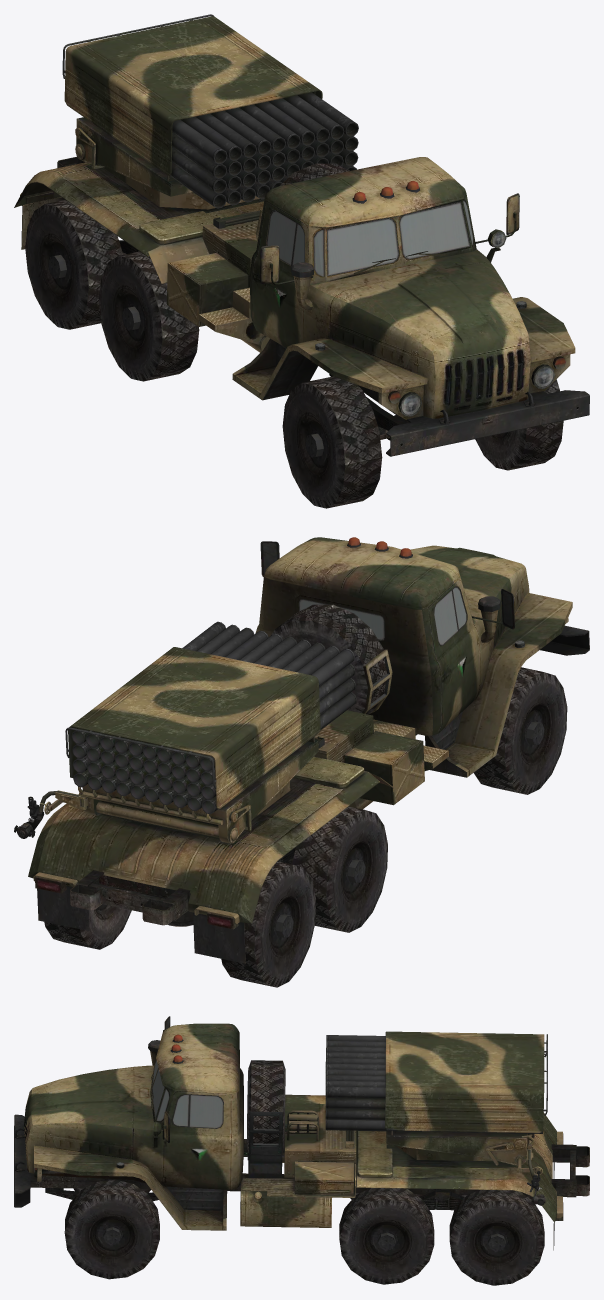
The model's file is bm-21-grad.glb.
The picture shows the model from 3 angles, top to bottom: view 1: azimuth 30°, elevation 25°; view 2: azimuth 150°, elevation 25°; view 3: azimuth 270°, elevation 25°; orthographic projection. The views are drawn at different scales.
Visible parts, largest first — view 1: Object02_Material #4591_0, Object01_Material #4590_0, Object07_Material #4961_0; view 2: Object02_Material #4591_0, Object01_Material #4590_0, Object07_Material #4961_0; view 3: Object02_Material #4591_0, Object01_Material #4590_0, Object07_Material #4961_0.
Boxes of the visible parts, <box> form: Object02_Material #4591_0: <box>14,14,563,508</box>; Object01_Material #4590_0: <box>57,156,589,456</box>; Object07_Material #4961_0: <box>266,200,473,276</box>; Object02_Material #4591_0: <box>14,604,567,987</box>; Object01_Material #4590_0: <box>70,537,589,926</box>; Object07_Material #4961_0: <box>299,587,466,645</box>; Object02_Material #4591_0: <box>64,1031,563,1285</box>; Object01_Material #4590_0: <box>14,1016,589,1230</box>; Object07_Material #4961_0: <box>152,1060,223,1128</box>.
Size of the model in its own units: 2.88 by 2.86 by 7.3.
4 materials, 4 textured.
